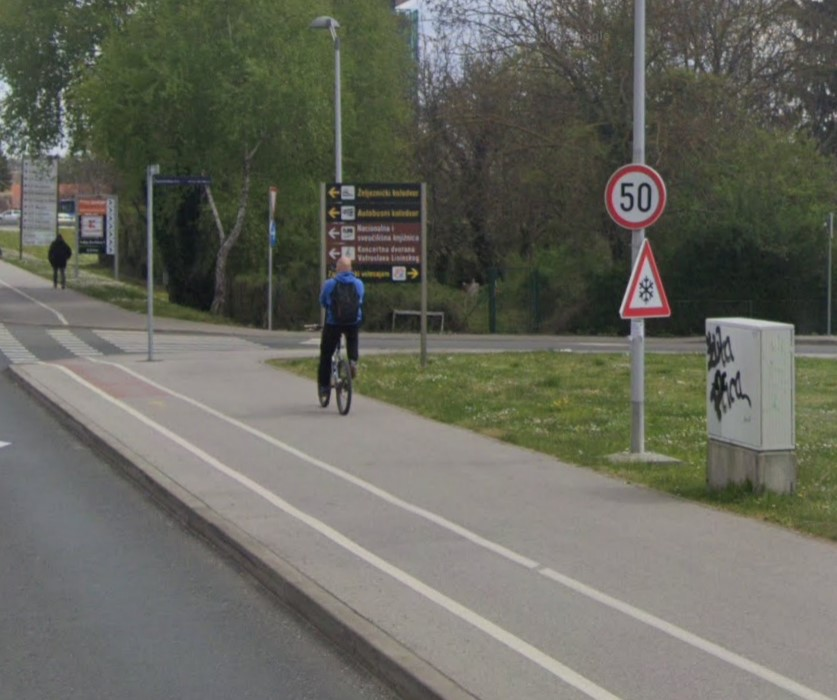Ograničenje brzine 50: (604, 163, 667, 230)
